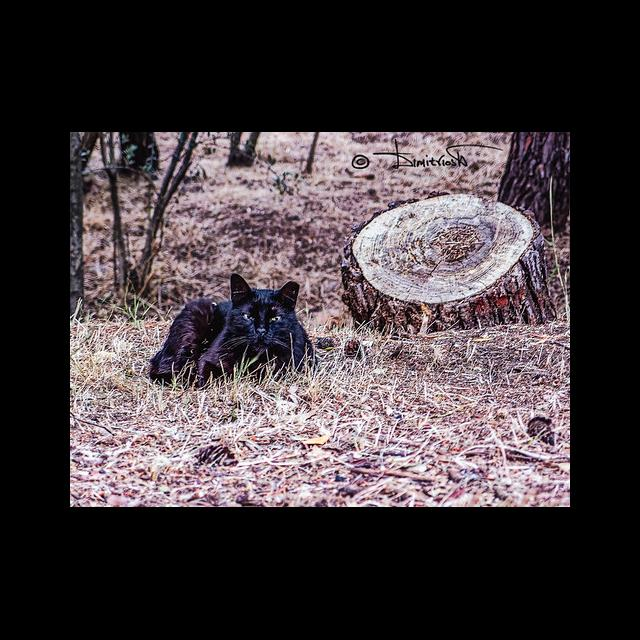animals: (149, 273, 314, 388)
